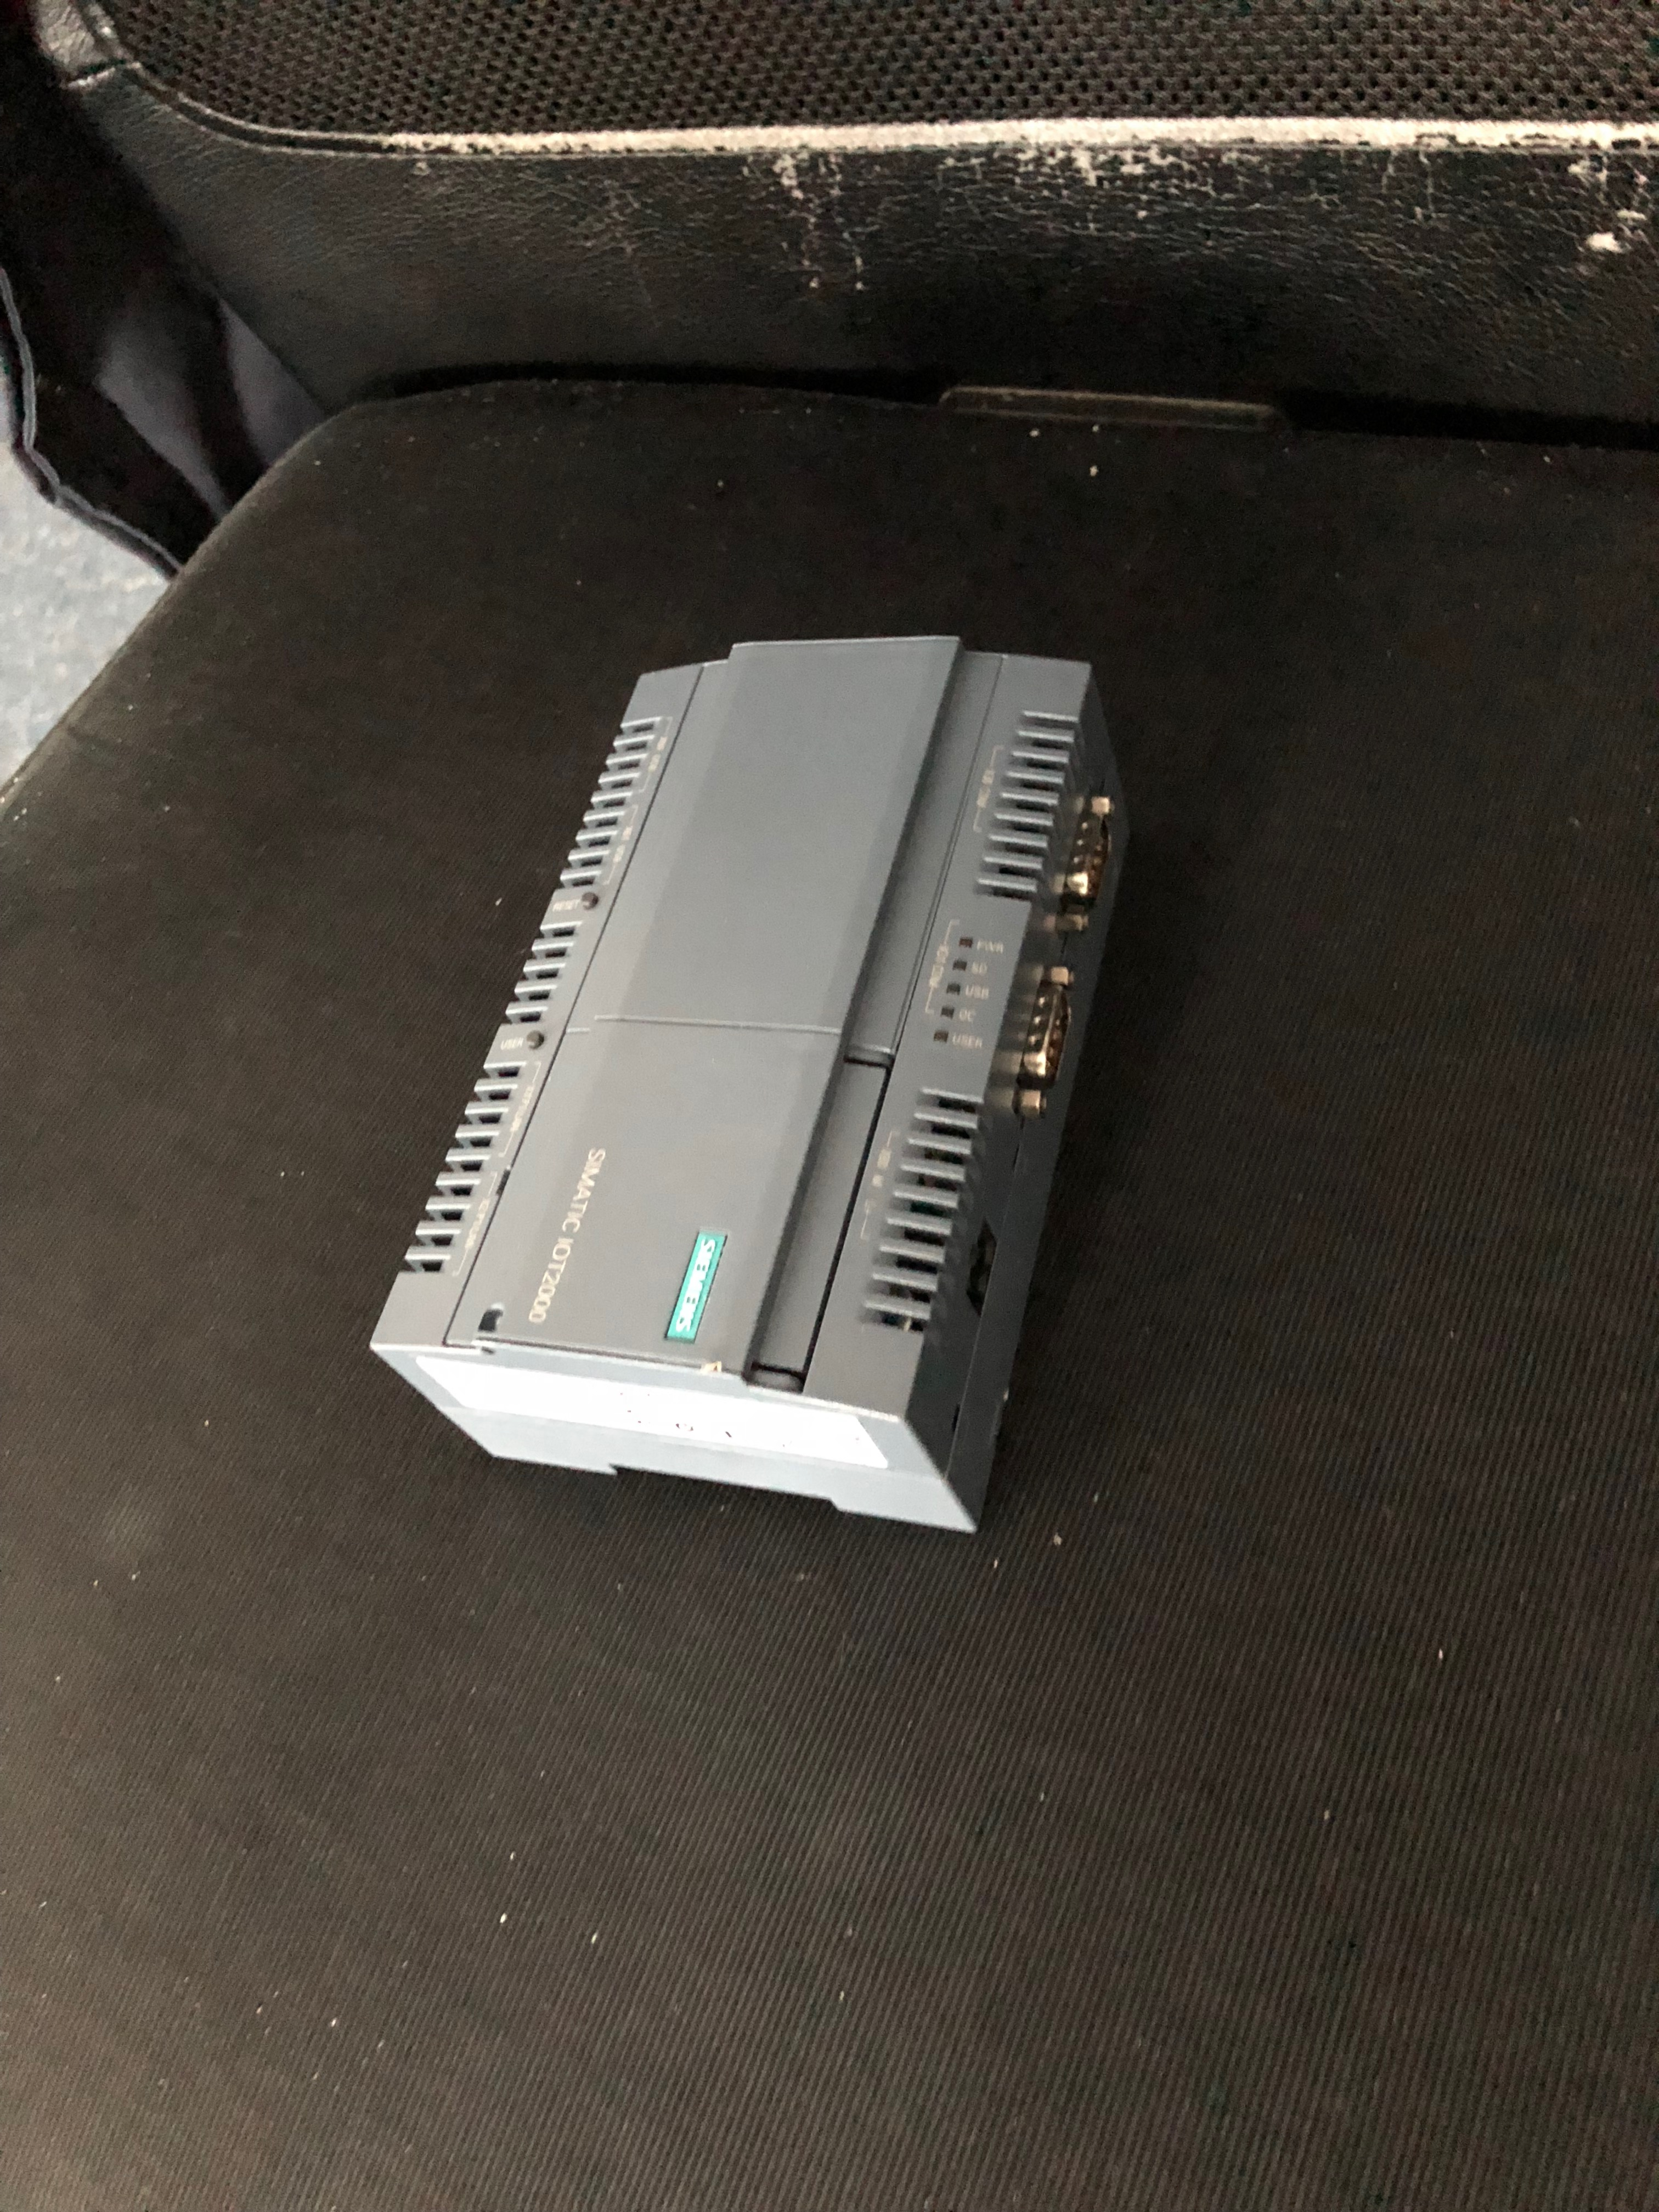device: (369, 636, 1131, 1534)
